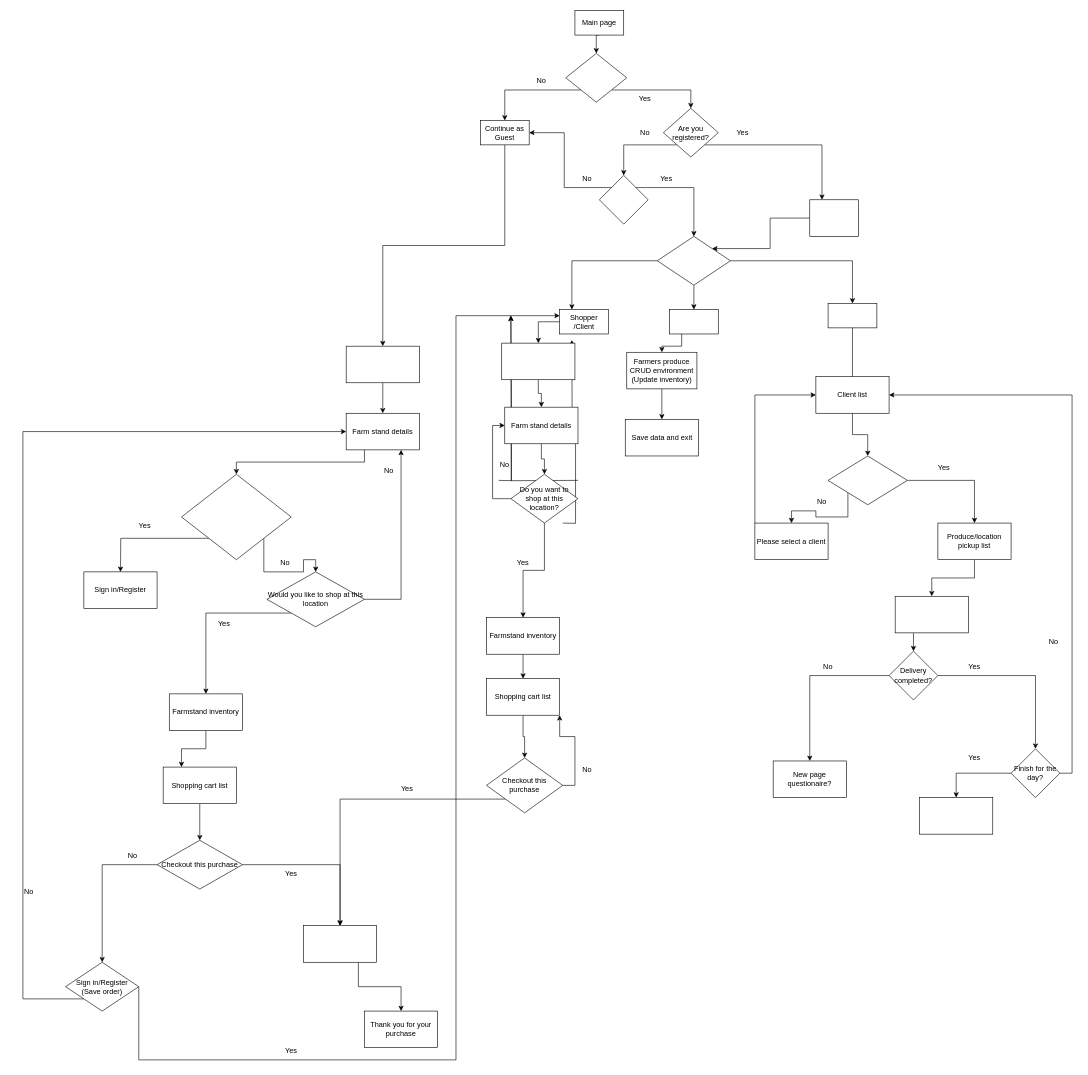
This 1088x1075 diagram has some shape labels left out. The centre of each missing label's shape, as x and y in pixels:
Choose this client?: point 867,480
Delivery Driver: point 852,315
Do you want to favorite location?: point 236,517
Do you want to register?: point 623,199
Do you want to sign in?: point 596,77
Farm stand cards: point 382,364
Farmer/Admin: point 693,321
Fav. Farm stand cards (Save preferences): point 538,361
GPS update screen: point 340,943
See your GPS route for delivery: point 931,614
Sign in: point 834,217
Sign out: point 956,815
Which account type?: point 693,260
